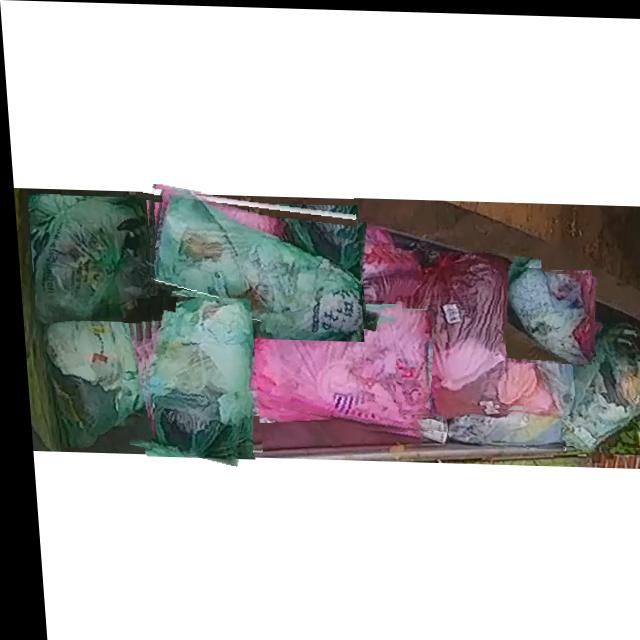general_trashbag: (145, 191, 358, 339), (133, 296, 249, 454), (39, 297, 142, 448), (28, 197, 145, 319), (554, 328, 640, 442), (504, 264, 586, 360), (443, 407, 557, 443), (524, 331, 569, 411)
other_trashbag: (237, 297, 432, 430), (397, 250, 545, 413)
